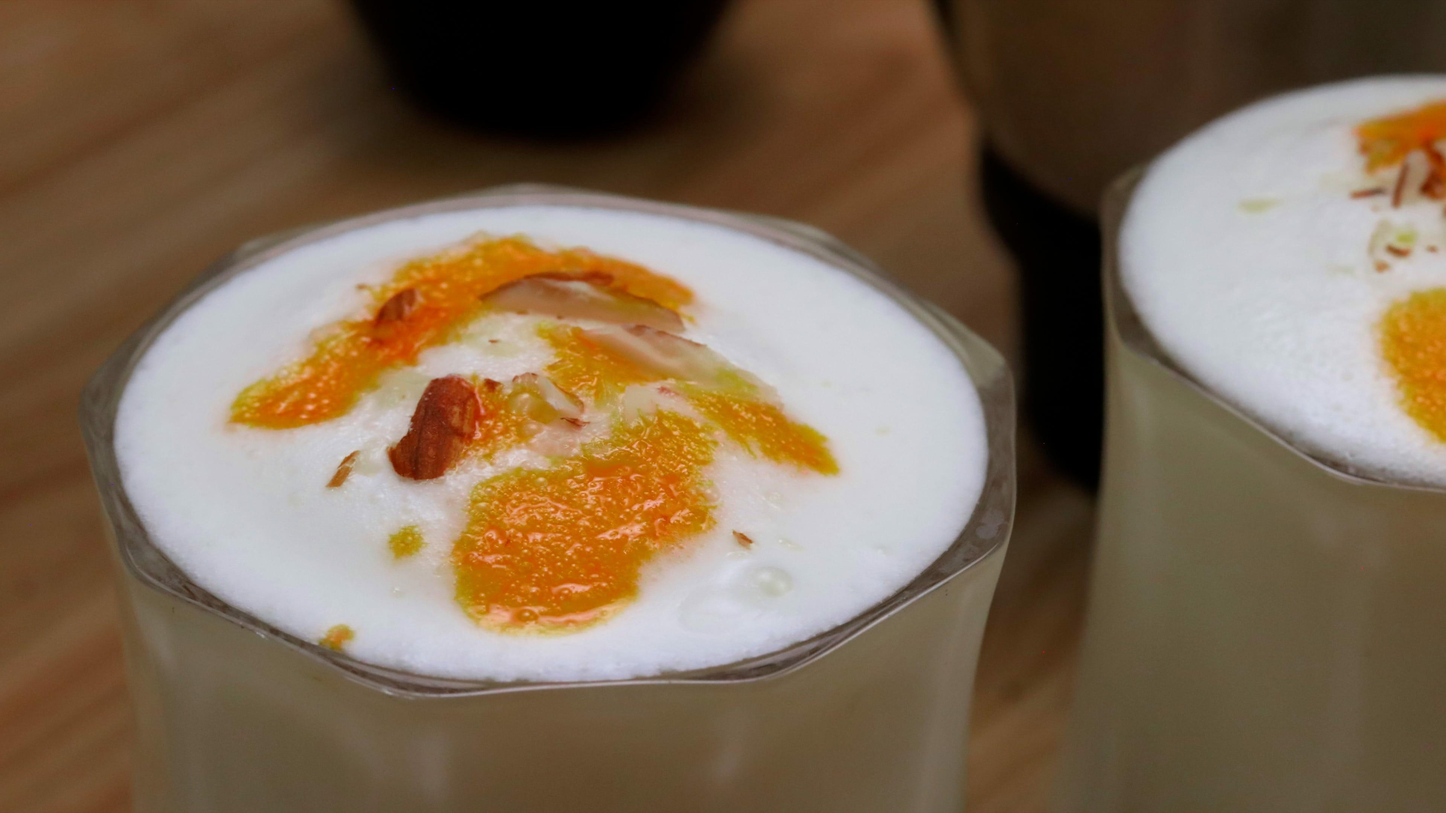Lassi: (114, 205, 984, 684), (1121, 73, 1446, 488)
